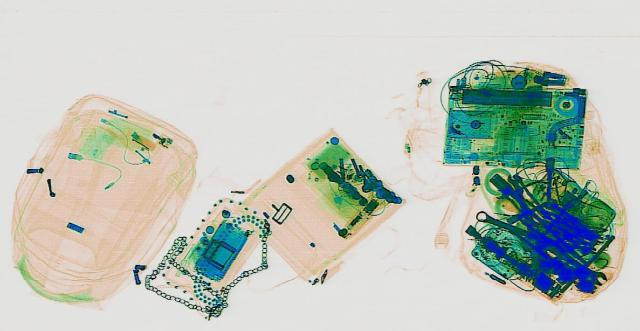Wrench: (546, 247, 614, 286), (503, 171, 533, 213)
